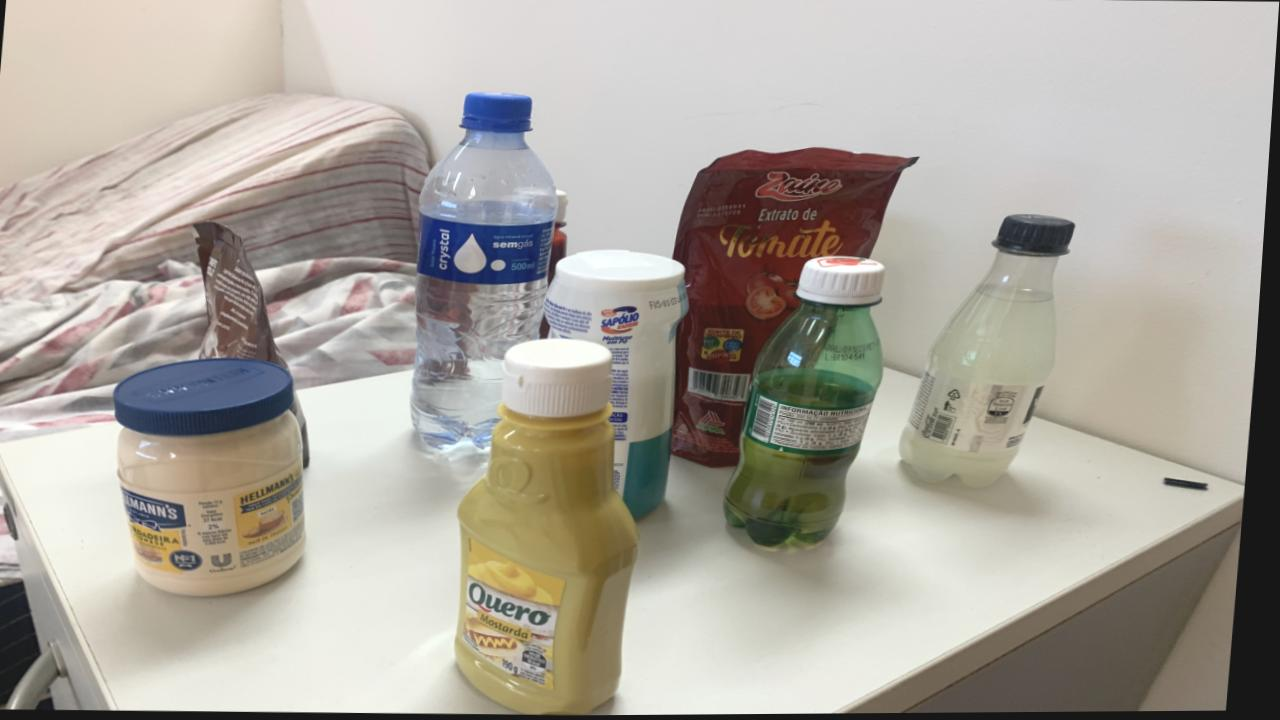Cleaner-Cleanup_Items: (549, 251, 692, 518)
Coffee-Pantry_Items: (195, 222, 293, 369)
Guarana-Drinks: (730, 257, 889, 548)
Mayonnaise-Pantry_Items: (119, 359, 314, 596)
Mustard-Pantry_Items: (463, 340, 646, 714)
Soda-Drinks: (907, 216, 1078, 488)
Tomato_Sauce-Pantry_Items: (678, 150, 920, 466), (463, 340, 646, 714)
Water_Bottle-Drinks: (415, 94, 560, 450)
